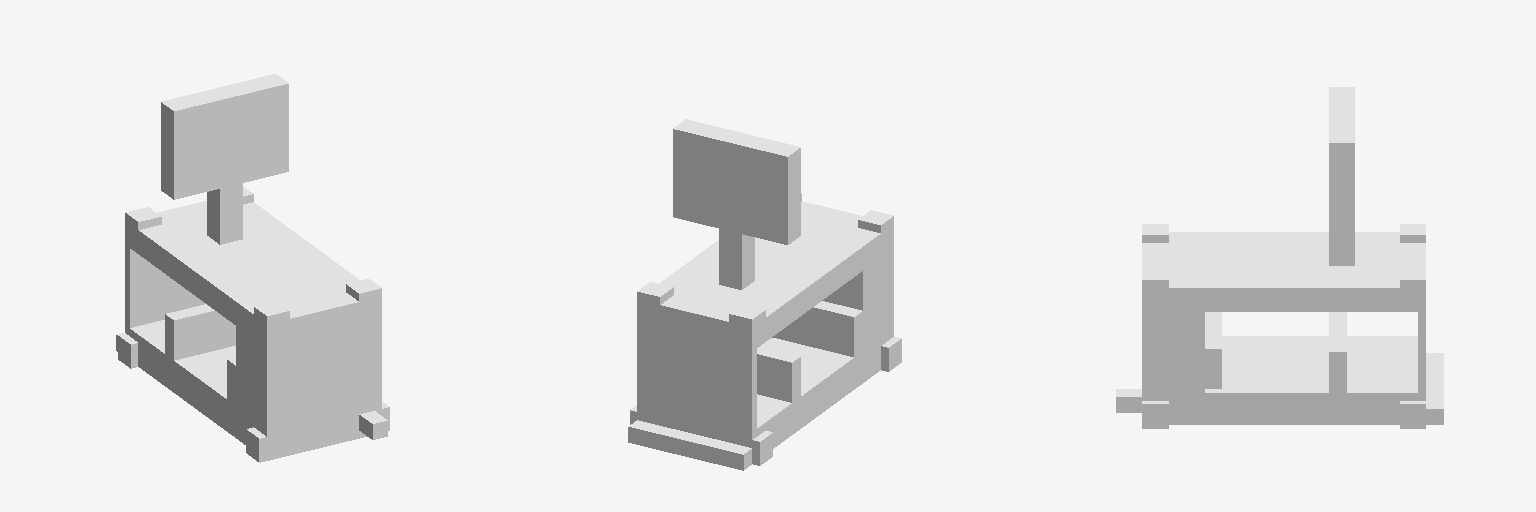
File: rainbow_car.obj
3 views of the same model, side by side, from view 1: azimuth 30°, elevation 25°; view 2: azimuth 150°, elevation 25°; view 3: azimuth 270°, elevation 25° (orthographic).
Visible parts, largest first — view 1: object 1; view 2: object 1; view 3: object 1.
Part boxes in pixels (x1,y1,x2,y2): object 1: (116,74,389,462); object 1: (628,119,901,470); object 1: (1116,87,1443,428).
Bounding box in the file's own units: 1.7 × 3.5 × 3.7.